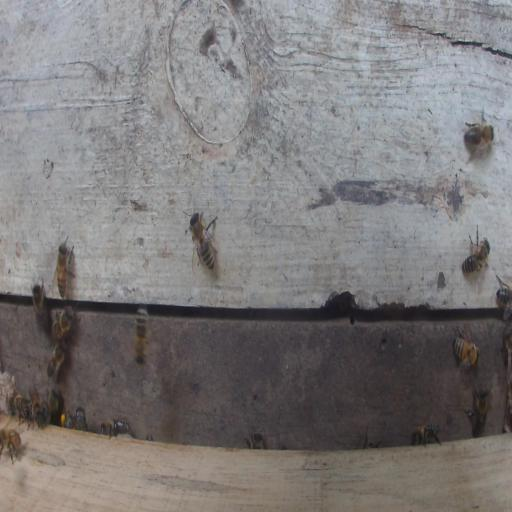nonpollenbee: (463, 108, 495, 158), (462, 227, 490, 283), (188, 213, 214, 270), (465, 386, 490, 434), (452, 327, 480, 367), (134, 306, 149, 367), (50, 304, 74, 341), (0, 428, 22, 466), (29, 389, 49, 428), (46, 343, 65, 384), (31, 277, 46, 327), (495, 274, 511, 320), (13, 394, 34, 429), (410, 424, 441, 446), (56, 244, 68, 299), (100, 418, 131, 438), (48, 388, 61, 419), (245, 431, 266, 449), (74, 407, 87, 430)
pollenbee: (61, 413, 73, 429)
